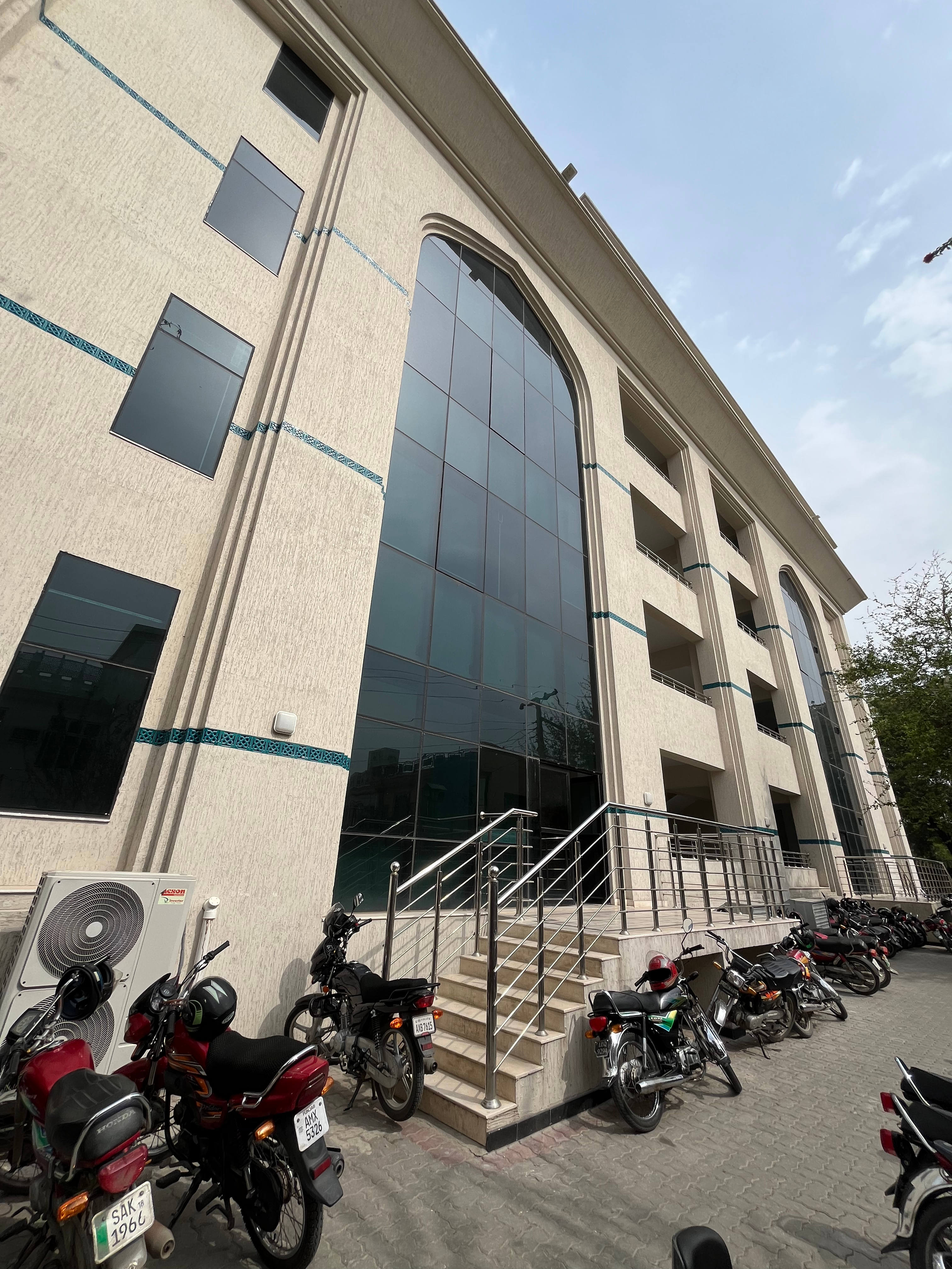Block F: (4, 2, 950, 1138)
